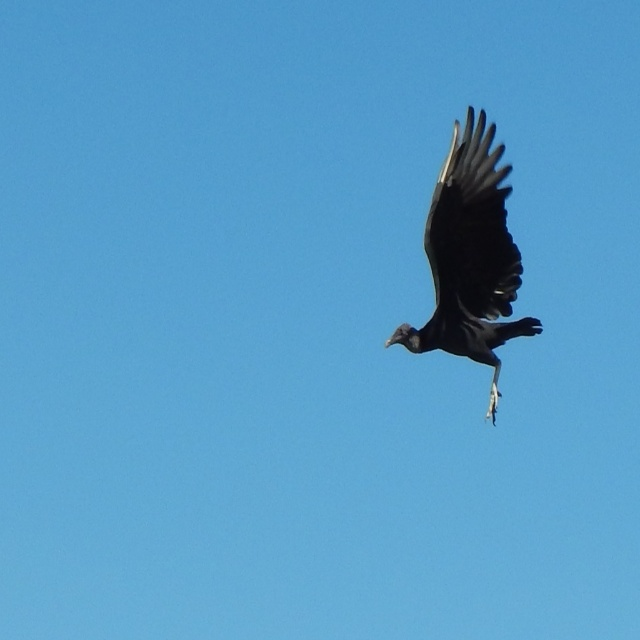Eagle: (386, 107, 542, 426)
